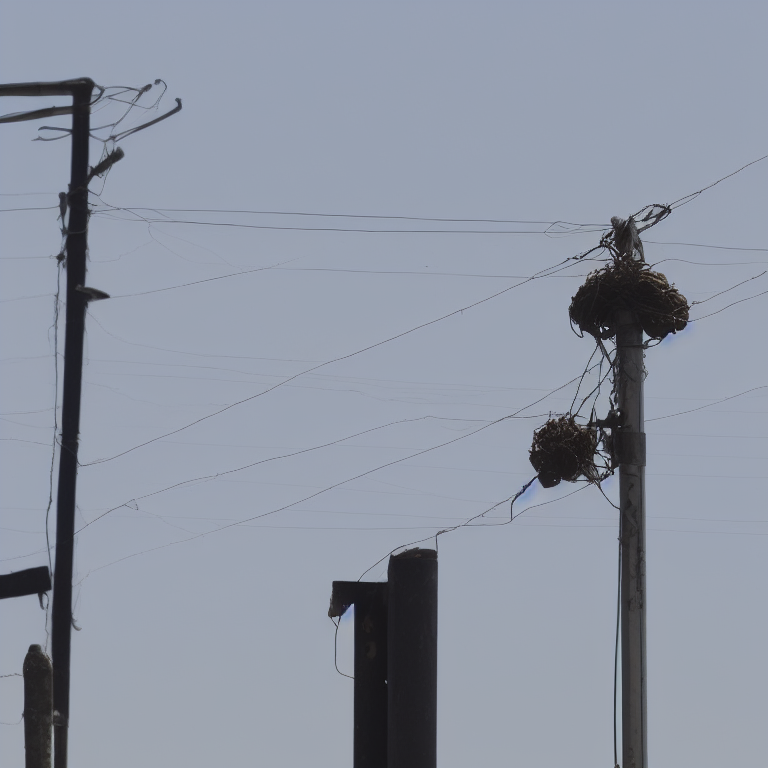nest: (570, 265, 692, 342), (534, 417, 606, 490)
